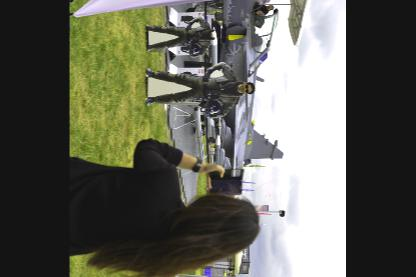JAS39: (186, 0, 285, 198)
